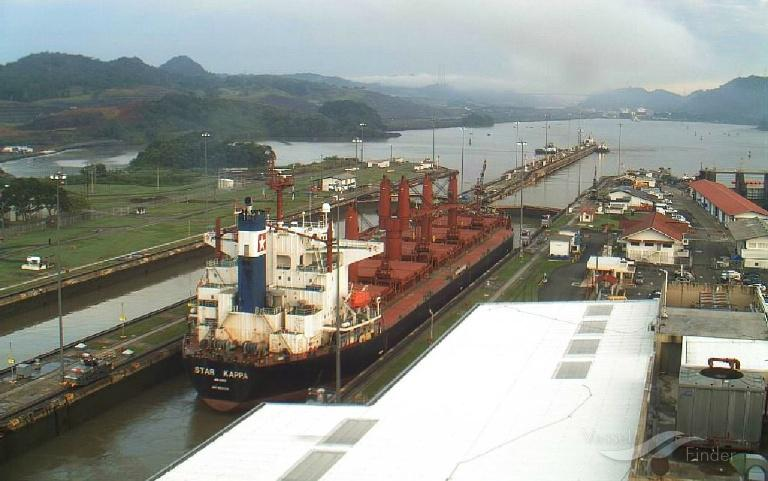OCR: (192, 364, 252, 398)
